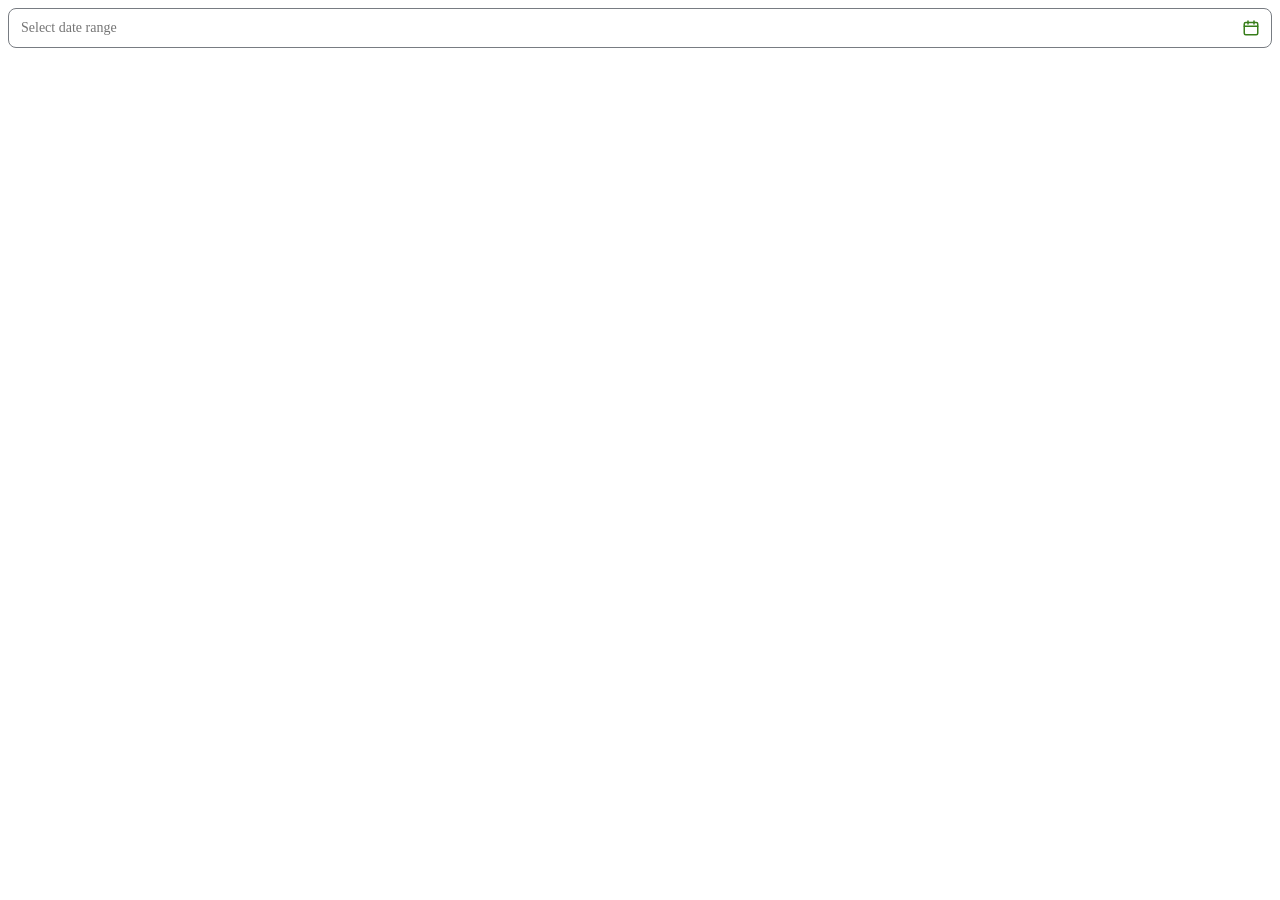
Scenario: DateRangePicker › applies a preset
Later steps or results of the test are not shown.
Click the field named "Period" at (621, 28), box top-left (9, 9), bottom-right (1233, 47)
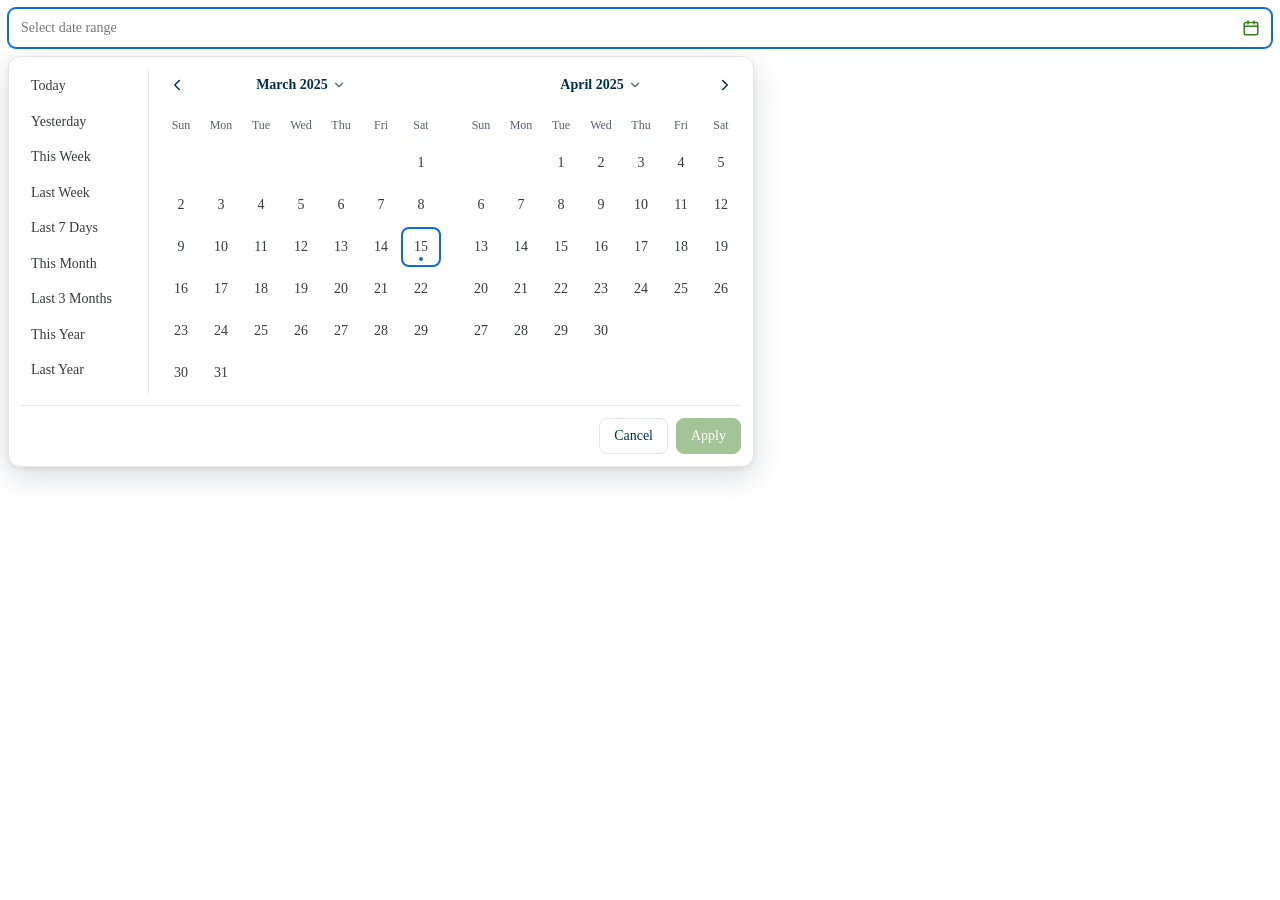
Click the button "Last 7 Days" at (78, 228), box top-left (21, 211), bottom-right (136, 244)
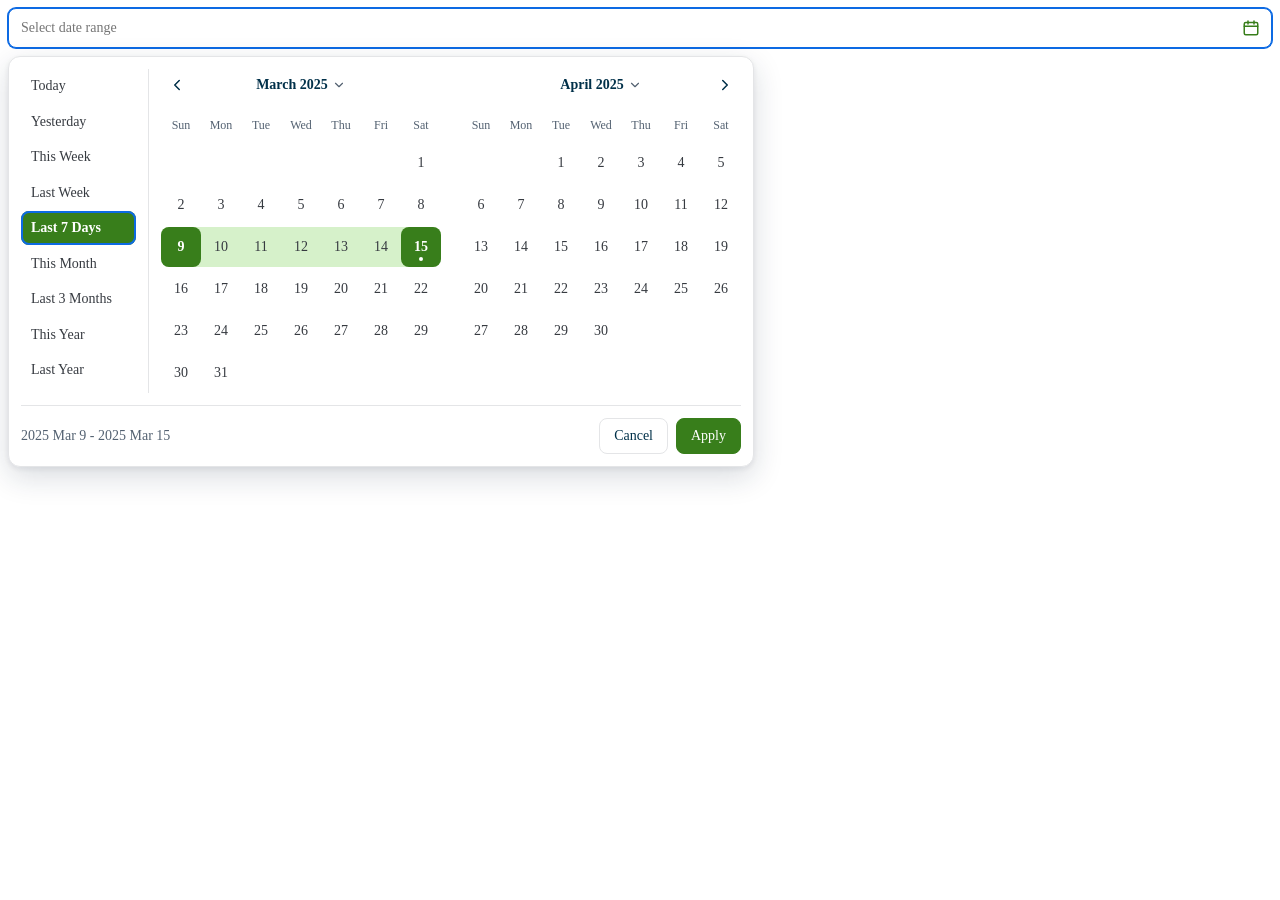
Result: the button "Last 7 Days" is pressed at top-left (21, 211), bottom-right (136, 244)
